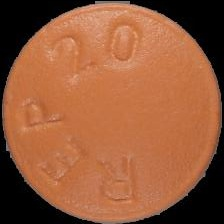0049-2330: (0, 0, 224, 224)
